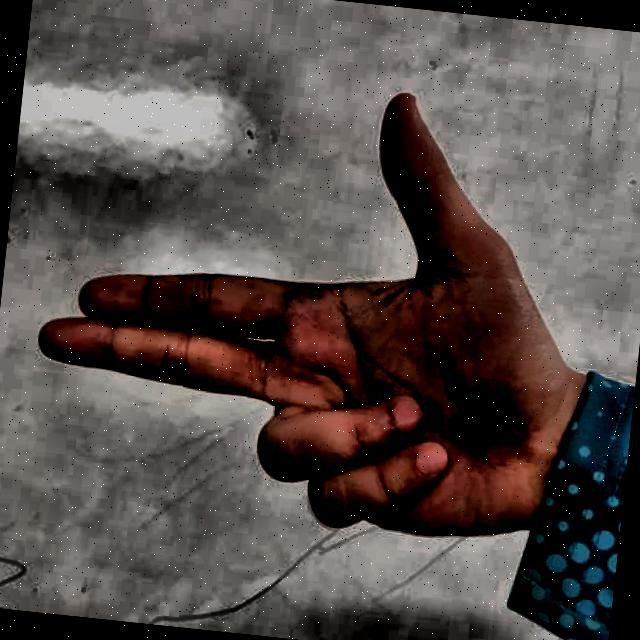Jha: (6, 31, 615, 636)
